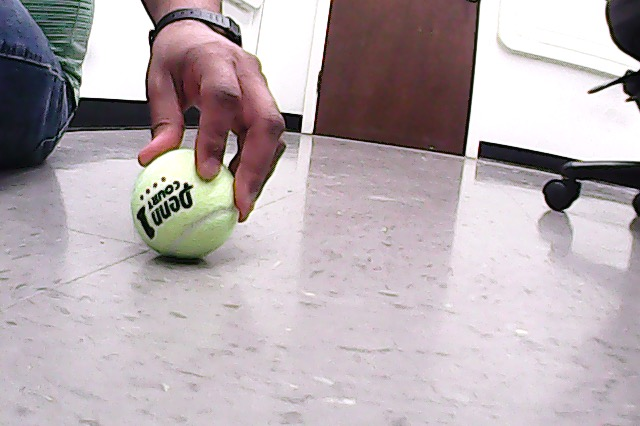ball: (128, 148, 242, 262)
